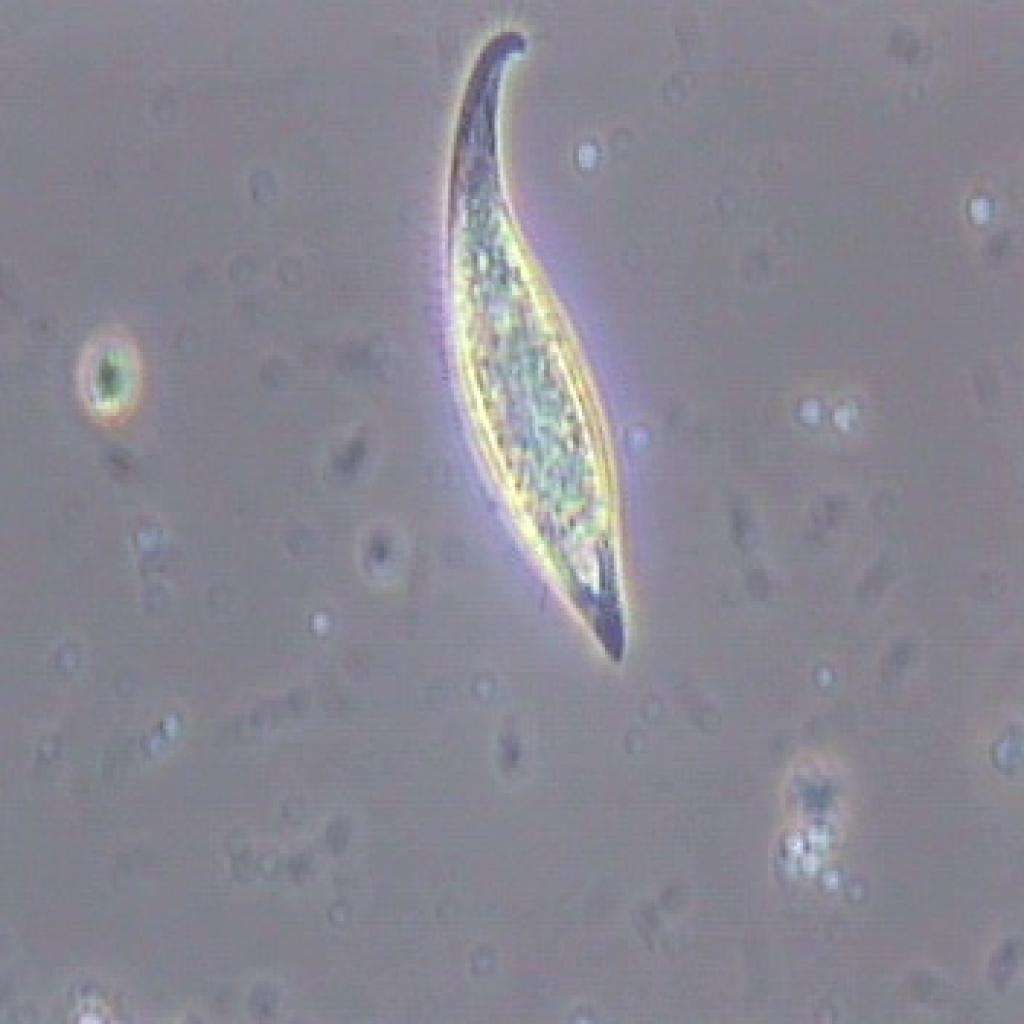Pristina: (420, 23, 656, 681)
